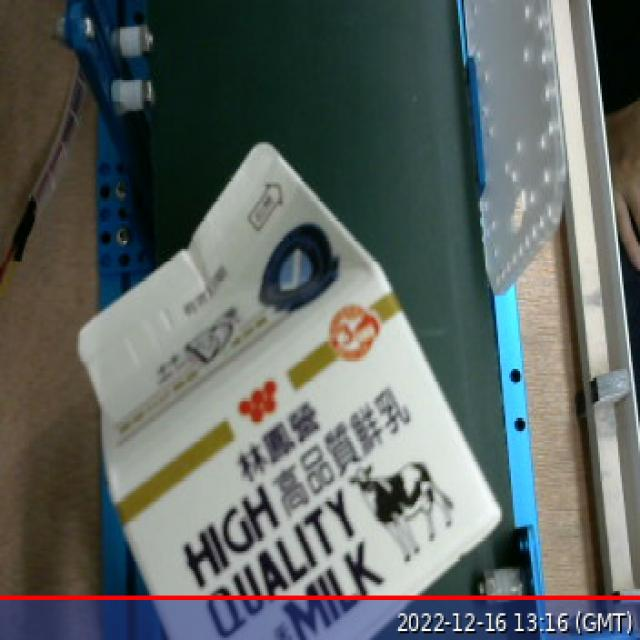non_white_jug: (49, 119, 542, 640)
